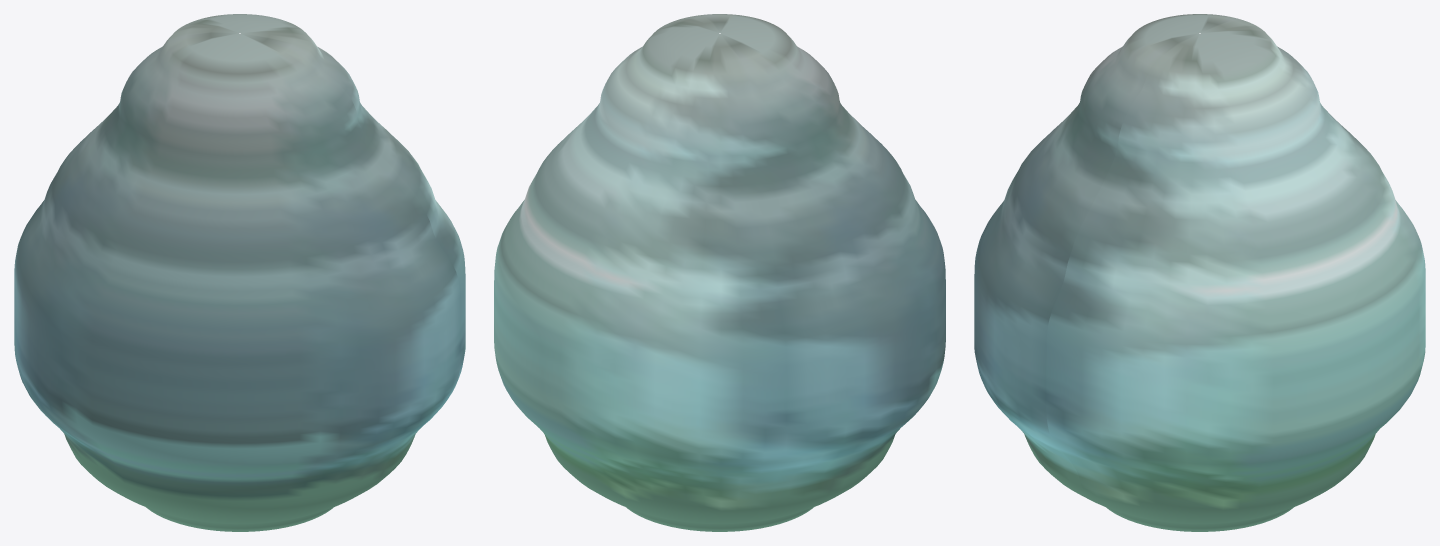
Rendered from bush-0.glb.
The picture shows the model from 3 angles, left to right: view 1: azimuth 30°, elevation 25°; view 2: azimuth 150°, elevation 25°; view 3: azimuth 270°, elevation 25°; orthographic projection.
Visible parts, largest first — view 1: bush-0; view 2: bush-0; view 3: bush-0.
Boxes of the visible parts, x1,y1,x2,y2 form: bush-0: [14, 14, 465, 531]; bush-0: [494, 14, 945, 531]; bush-0: [974, 14, 1425, 531].
Size of the model in its own units: 0.5109 by 0.5672 by 0.5109.
